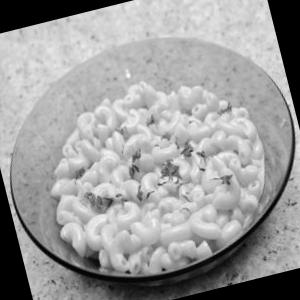pasta: (18, 49, 297, 300)
